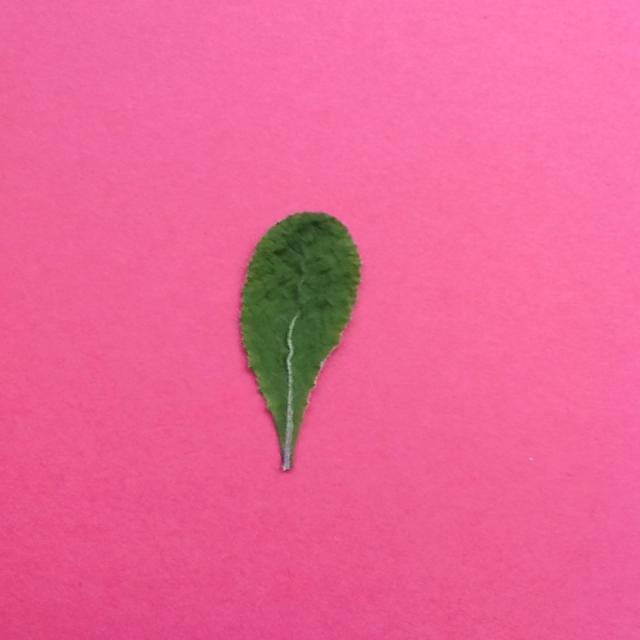foliage: (238, 209, 364, 472)
